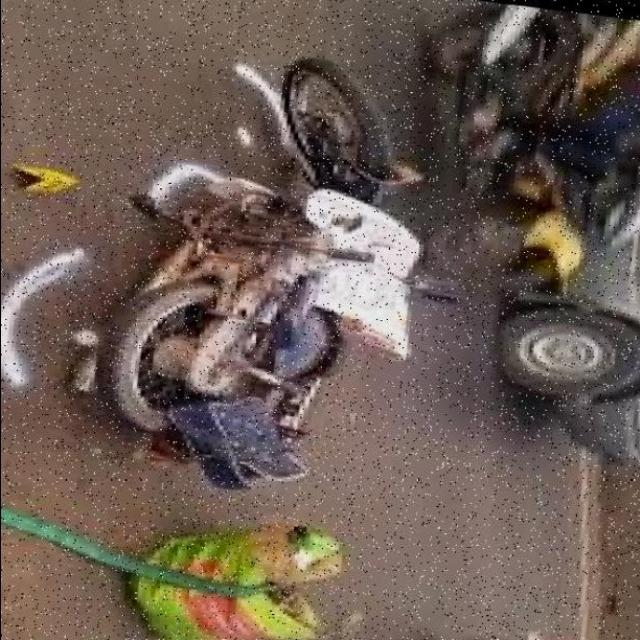accident: (39, 25, 513, 561)
